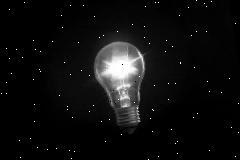lightbulb: (89, 37, 155, 137)
